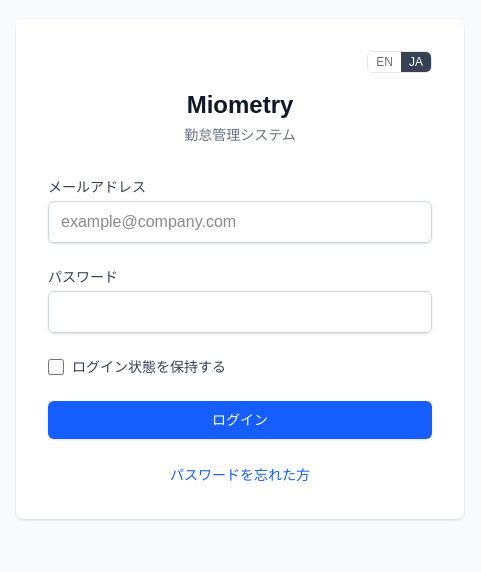
Scenario: Login page › Login submission › shows credential error on 401
Type "user@example.com" into the field labelled "メールアドレス" at (240, 222), box [48,201,432,243]
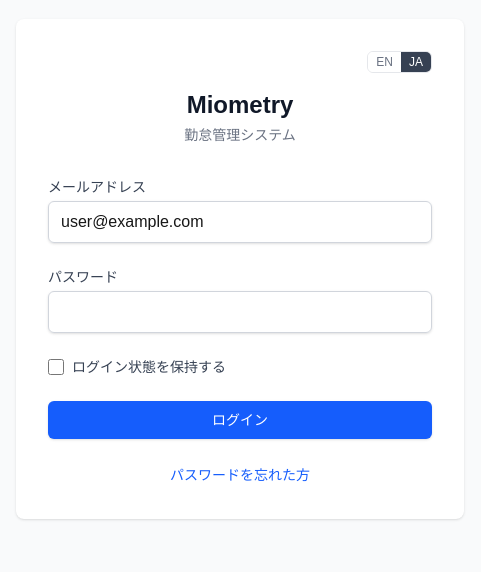
Type "password123" into the password field labelled "パスワード" at (240, 312), box [48,291,432,333]
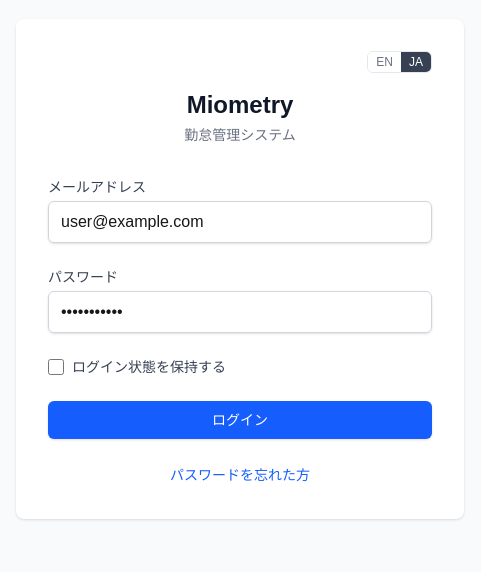
Click the button "ログイン" at (240, 420), box [48,401,432,439]
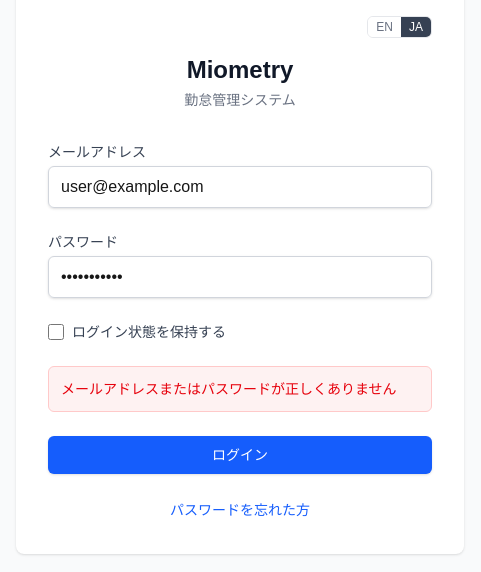
Check: the message reads "メールアドレスまたはパスワードが正しくありません", box [61,381,397,397]
